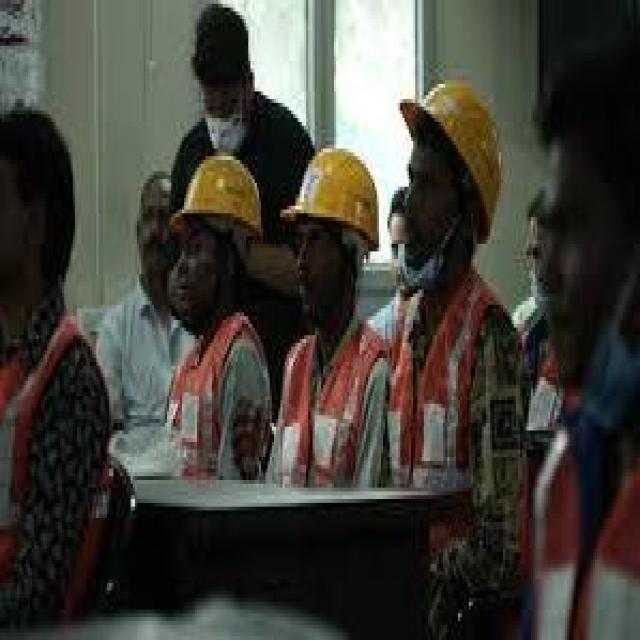Reflective-Jacket: (0, 289, 109, 640), (524, 373, 640, 640), (390, 263, 512, 494), (161, 297, 276, 495), (276, 305, 385, 495), (526, 338, 588, 450)
Safety-Helmet: (387, 53, 518, 248), (285, 133, 385, 263), (167, 137, 272, 255)
